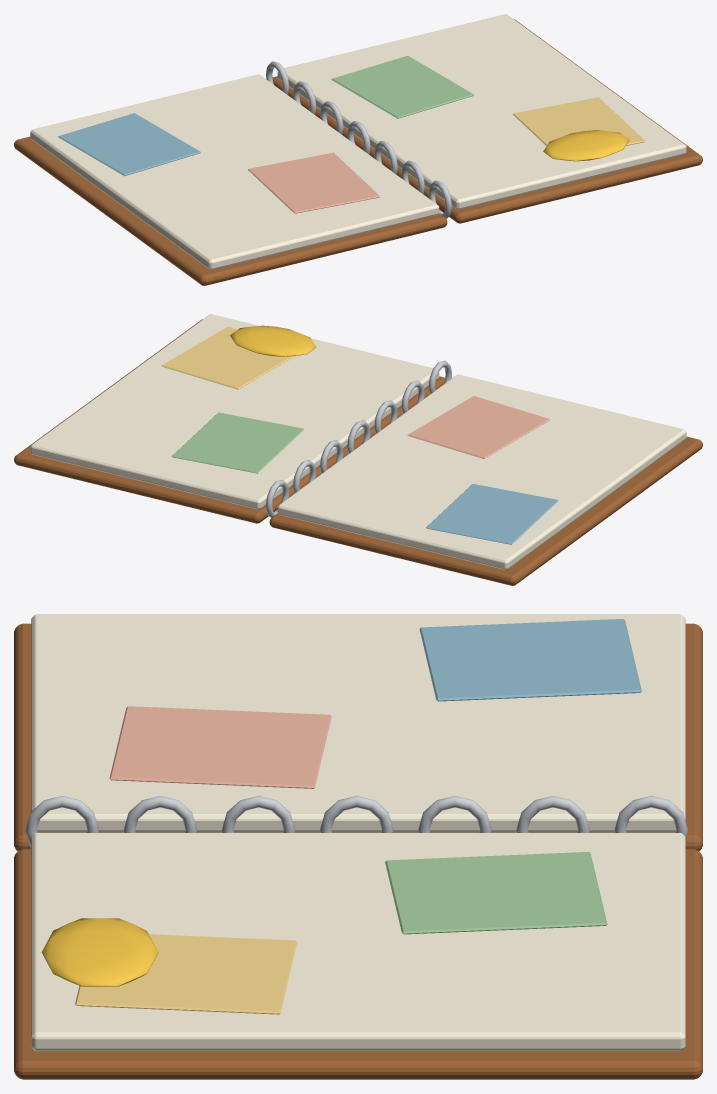
Rendered from photo_album_open.glb.
3 views of the same model, one above another, from view 1: azimuth 30°, elevation 25°; view 2: azimuth 150°, elevation 25°; view 3: azimuth 270°, elevation 25° (orthographic). The views are drawn at different scales.
Visible parts, largest first — view 1: page-left, page-right, cover-left, cover-right, photo, photo.002, photo.001, photo.003, sticker-star; view 2: page-left, page-right, cover-left, cover-right, photo.001, photo, photo.002, photo.003, sticker-star; view 3: page-right, page-left, cover-right, photo.001, photo, photo.002, photo.003, cover-left, sticker-star, ring.006, ring, ring.004 (+4 smaller).
Part boxes in pixels (left/top/right/bottom): page-left: left=30, top=74, right=439, bottom=269; page-right: left=277, top=14, right=686, bottom=209; cover-left: left=14, top=136, right=447, bottom=285; cover-right: left=272, top=19, right=702, bottom=223; photo: left=58, top=113, right=200, bottom=176; photo.002: left=331, top=55, right=473, bottom=118; photo.001: left=248, top=152, right=380, bottom=213; photo.003: left=513, top=97, right=645, bottom=145; sticker-star: left=543, top=130, right=629, bottom=161; page-left: left=277, top=374, right=686, bottom=569; page-right: left=30, top=314, right=439, bottom=509; cover-left: left=269, top=436, right=702, bottom=585; cover-right: left=14, top=319, right=444, bottom=523; photo.001: left=407, top=396, right=550, bottom=458; photo: left=426, top=484, right=558, bottom=544; photo.002: left=171, top=412, right=304, bottom=473; photo.003: left=161, top=326, right=294, bottom=389; sticker-star: left=230, top=325, right=316, bottom=356; page-right: left=31, top=833, right=685, bottom=1051; page-left: left=31, top=614, right=685, bottom=832; cover-right: left=14, top=849, right=702, bottom=1079; photo.001: left=109, top=706, right=331, bottom=788; photo: left=419, top=619, right=641, bottom=701; photo.002: left=385, top=851, right=607, bottom=934; photo.003: left=75, top=934, right=297, bottom=1014; cover-left: left=14, top=623, right=702, bottom=851; sticker-star: left=41, top=918, right=158, bottom=986; ring.006: left=25, top=796, right=98, bottom=847; ring: left=614, top=795, right=687, bottom=837; ring.004: left=222, top=796, right=295, bottom=832.
Size of the model in its own units: 0.61 by 0.0426 by 0.4.
